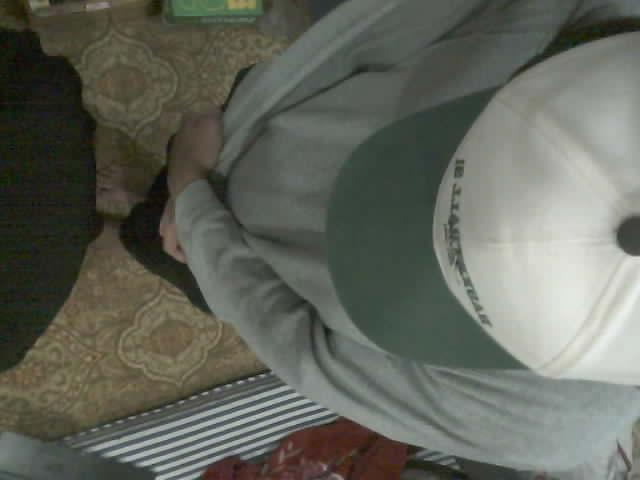cap: (327, 32, 639, 387)
